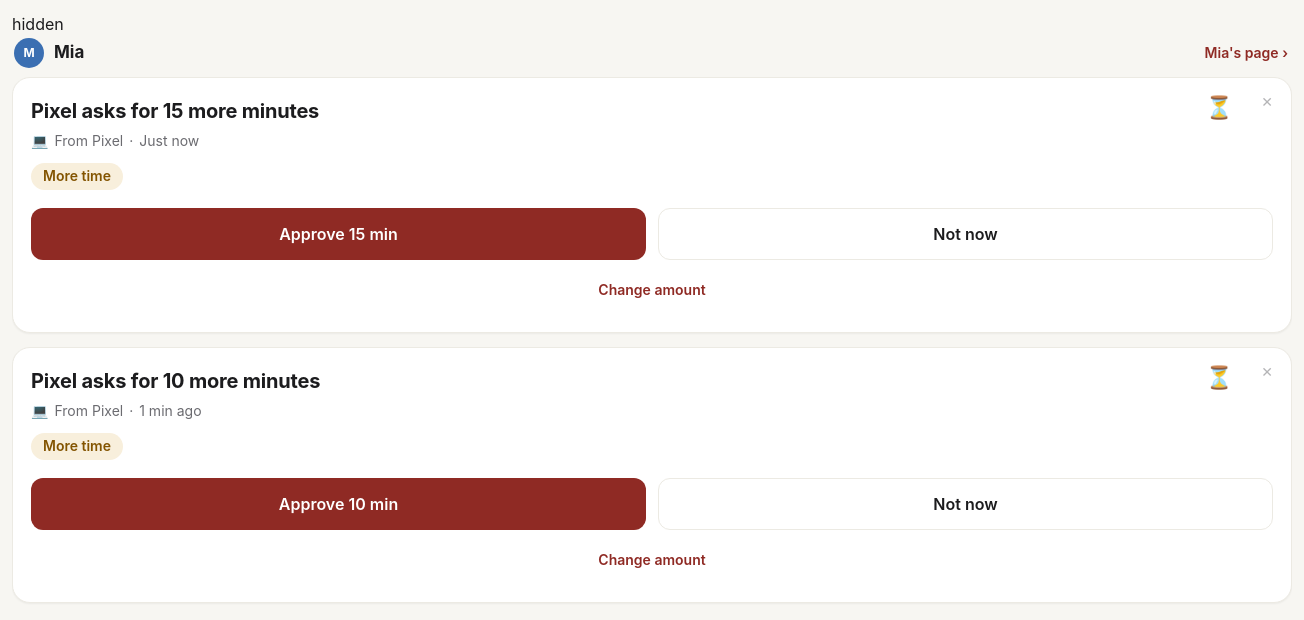
Test case: Approvals — dismiss (Task C, approvals-clarity 2026-08-04) › dismiss removes exactly that request, leaves the other, and never touches the signer
Click the button named "Dismiss". click: (1267, 102)
box: [1243, 78, 1291, 126]
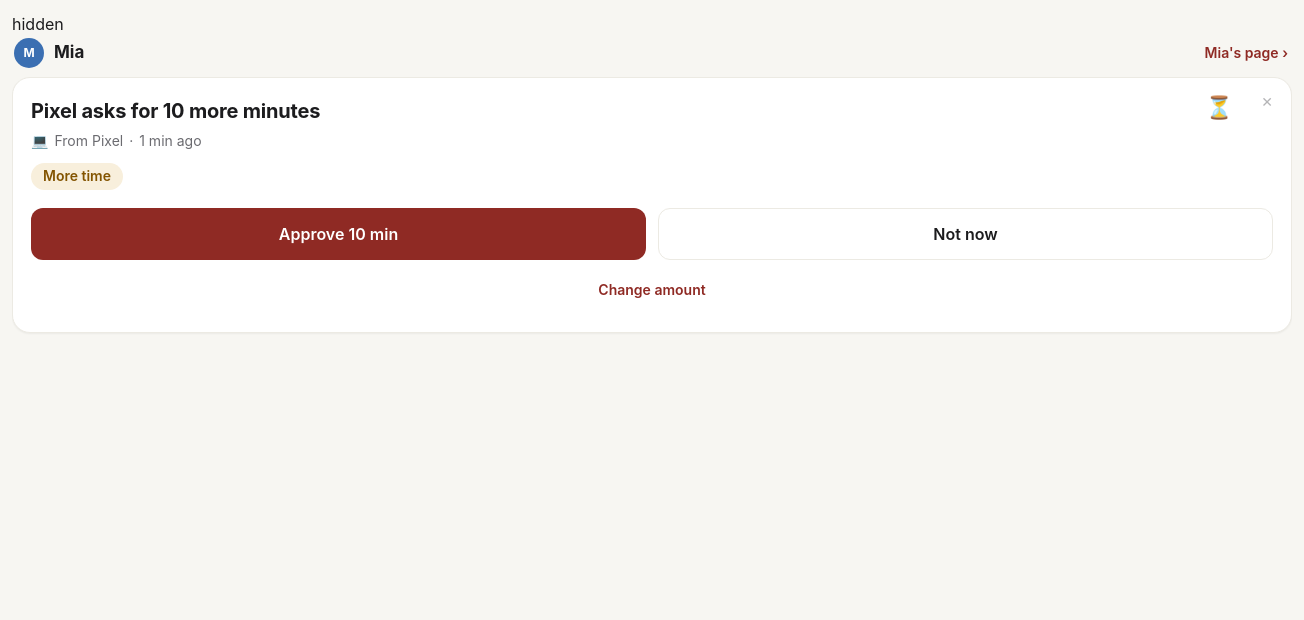
Check: the text "10 more minutes" is shown, box [31, 99, 320, 123]
Check: the text "15 more minutes" is gone
